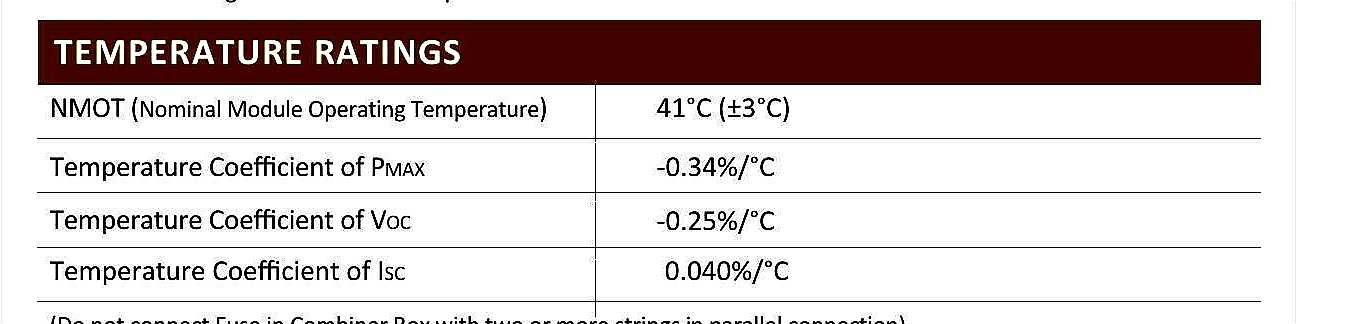table: (34, 15, 1274, 307)
table column: (597, 27, 1245, 296), (45, 24, 594, 298)
table name: (43, 24, 1259, 82)
table row: (43, 21, 1259, 85), (43, 195, 1259, 243), (43, 141, 1258, 188), (45, 87, 1258, 133), (43, 253, 1264, 297)
table row header: (43, 24, 593, 297)
table spanning cell: (40, 25, 1253, 81)
